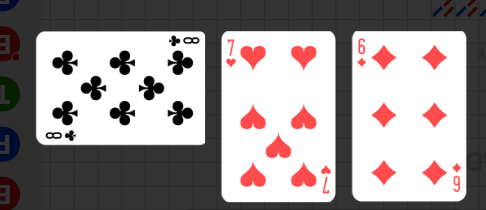6D: (451, 161, 463, 194)
7H: (225, 37, 238, 69)
8C: (44, 128, 79, 142)
